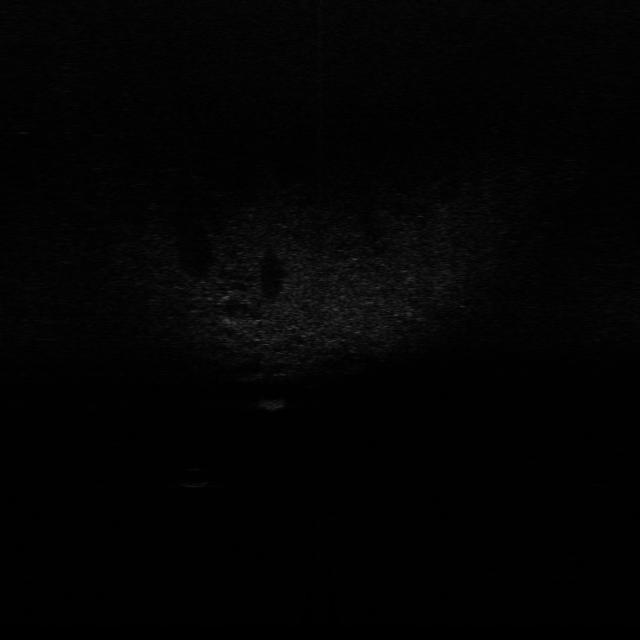ball: (176, 465, 212, 490)
cube: (258, 389, 292, 412)
